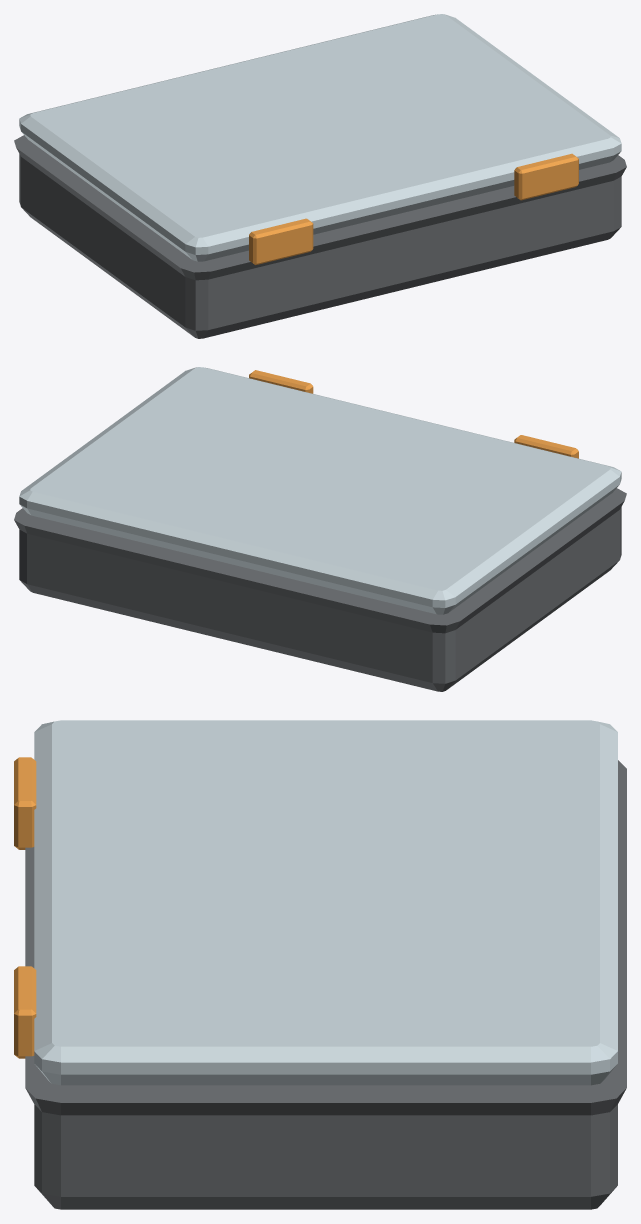
3 renders of one model, top to bottom at view 1: azimuth 30°, elevation 25°; view 2: azimuth 150°, elevation 25°; view 3: azimuth 270°, elevation 25°, orthographic. The views are drawn at different scales.
Visible parts, largest first — view 1: tray-lid/glass, fastener-tray, tray-lid/accent; view 2: tray-lid/glass, fastener-tray, tray-lid/accent; view 3: tray-lid/glass, fastener-tray, tray-lid/accent.
Part boxes in pixels (x1,y1,x2,y2): tray-lid/glass: (19,14,621,261); fastener-tray: (14,135,626,338); tray-lid/accent: (249,153,578,264); tray-lid/glass: (19,367,621,614); fastener-tray: (14,488,626,691); tray-lid/accent: (249,370,578,458); tray-lid/glass: (34,720,617,1085); fastener-tray: (25,760,626,1209); tray-lid/accent: (14,757,36,1058).
Bounding box in the file's own units: 0.368 × 0.08 × 0.273.
